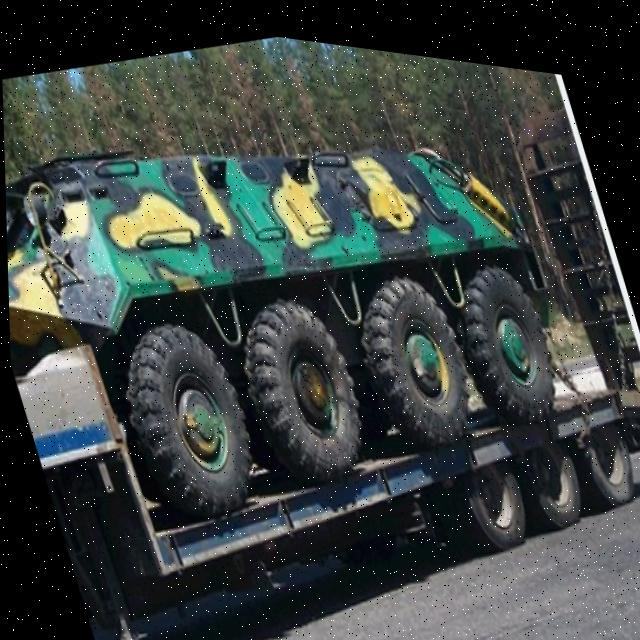MIL_APC: (0, 0, 636, 588)
